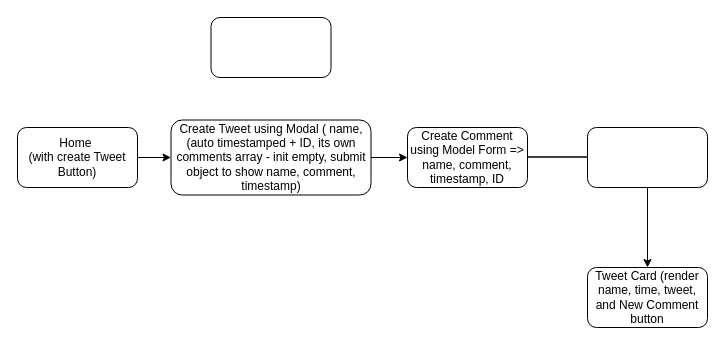
Image size: 725x345. Some labels were removed from this diagram. Each missing label, with the centre of its shape:
"App.js" belongs at pixel 270 47.
"Tweet Card List (to render data in Tweet Card)" belongs at pixel 647 157.
